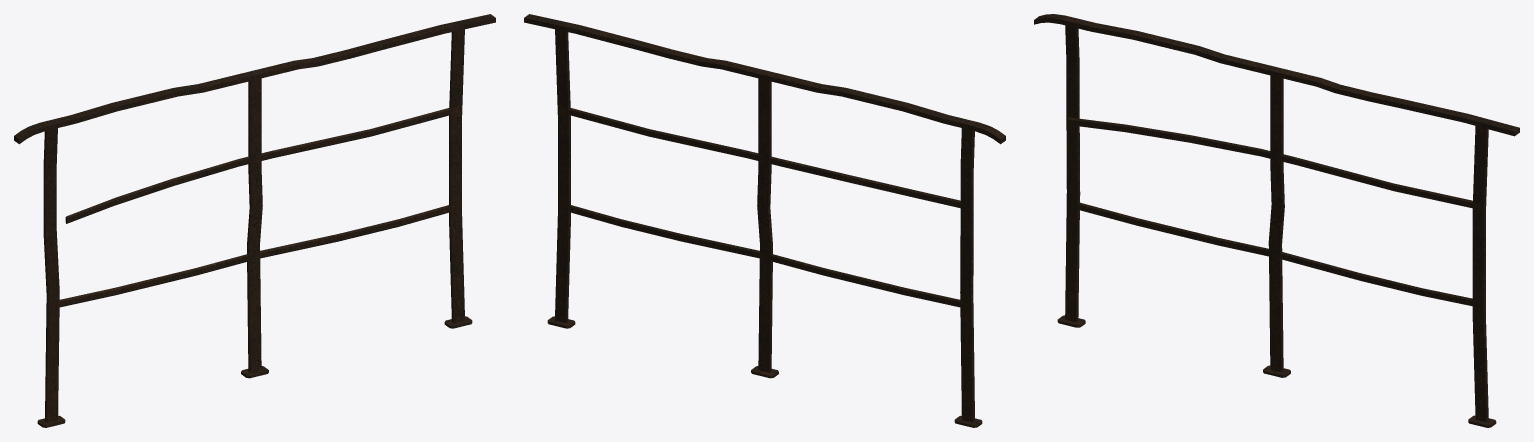
Rendered from hand_rail_3.dae.
3 views of the same model, side by side, from view 1: azimuth 30°, elevation 25°; view 2: azimuth 150°, elevation 25°; view 3: azimuth 330°, elevation 25° (orthographic).
Parts seen in each view (by area): view 1: hand_rail_3; view 2: hand_rail_3; view 3: hand_rail_3.
Boxes of the visible parts, box(x1,y1,x2,y2) form: hand_rail_3: box(14, 14, 495, 427); hand_rail_3: box(524, 14, 1005, 427); hand_rail_3: box(1034, 14, 1519, 427).
Bounding box in the file's own units: 2.11 × 0.1054 × 1.28.
Materials: 1 (1 with a texture image).
